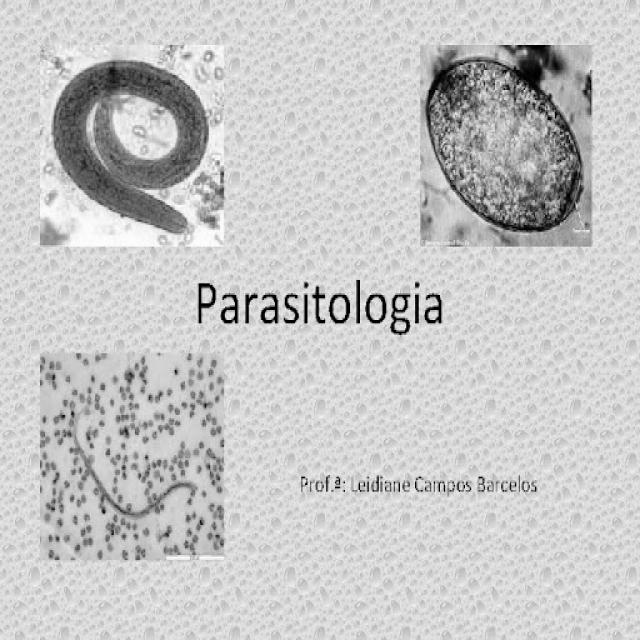Fasciola Hepatica: (422, 59, 590, 231)
